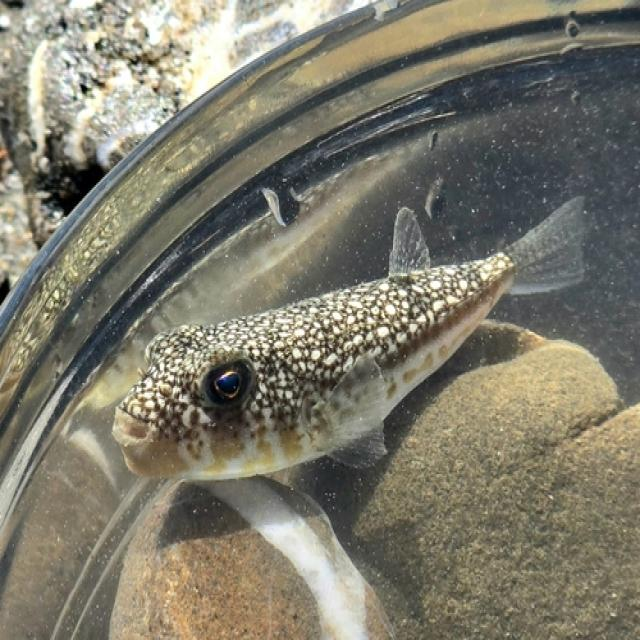Balik: (113, 198, 584, 478)
